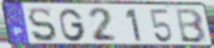1: (124, 8, 144, 43)
2: (87, 6, 119, 44)
5: (148, 8, 173, 44)
B: (175, 8, 208, 45)
G: (58, 8, 88, 43)
S: (27, 6, 59, 44)
